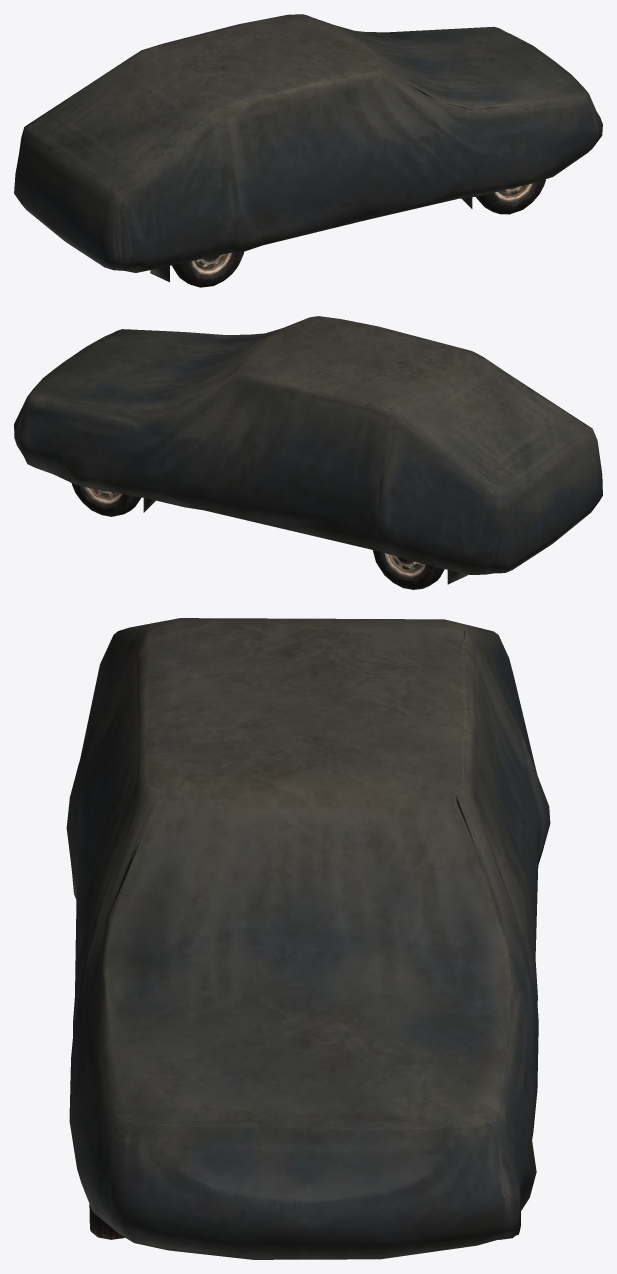
File: covered_car.glb
The picture shows the model from 3 angles, top to bottom: view 1: azimuth 30°, elevation 25°; view 2: azimuth 150°, elevation 25°; view 3: azimuth 270°, elevation 25°; orthographic projection. The views are drawn at different scales.
Parts seen in each view (by area): view 1: covered_car; view 2: covered_car; view 3: covered_car.
Part boxes in pixels (x1,y1,x2,y2): covered_car: (14,14,602,287); covered_car: (14,316,602,589); covered_car: (66,618,550,1259).
Bounding box in the file's own units: 4.37 × 1.41 × 1.79.
1 material, 1 textured.
